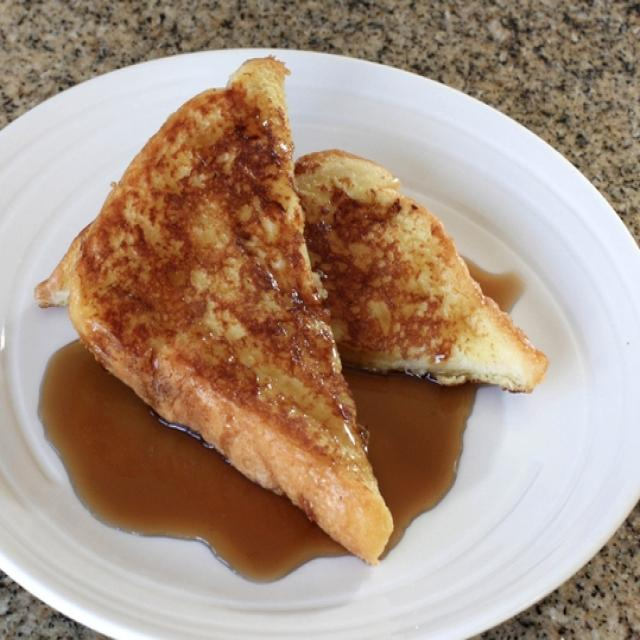面包点心: (13, 50, 603, 601)
